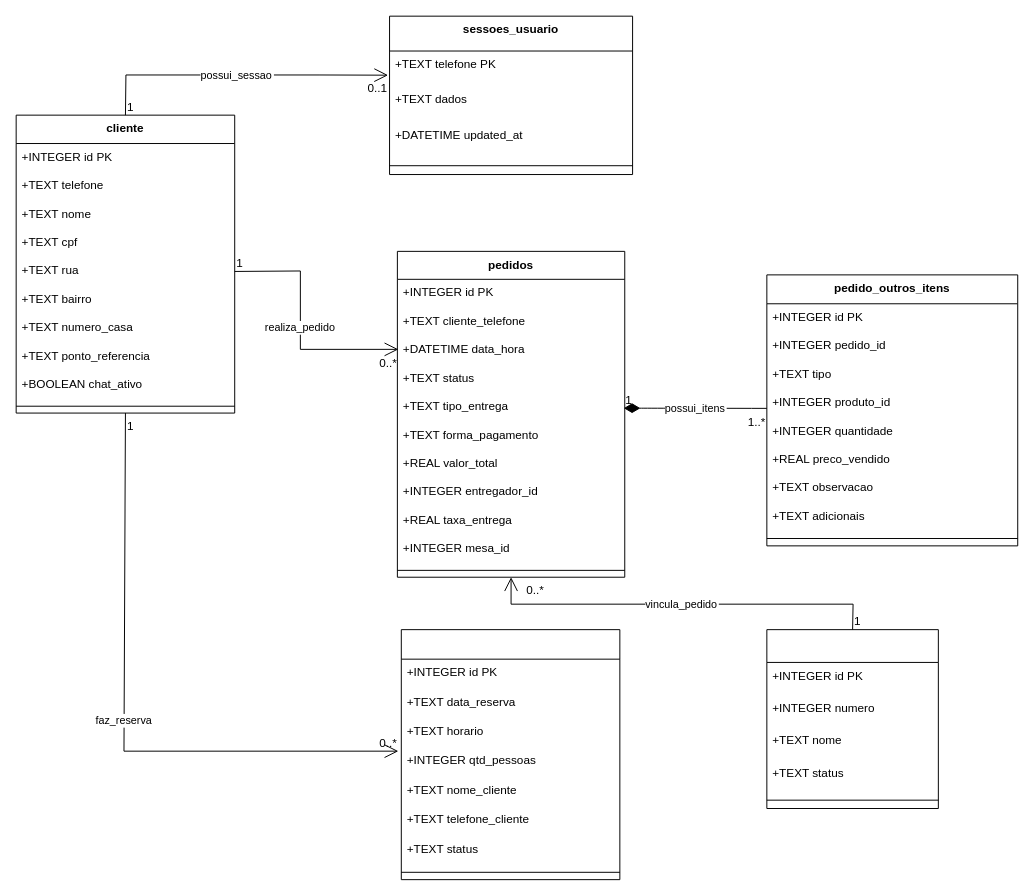
Some shapes in this 1034 by 896 pixel diagram are drawn without their labels. Each missing label, with the box of its shape:
mesas: (766, 629, 938, 808)
reservas: (400, 629, 620, 880)
